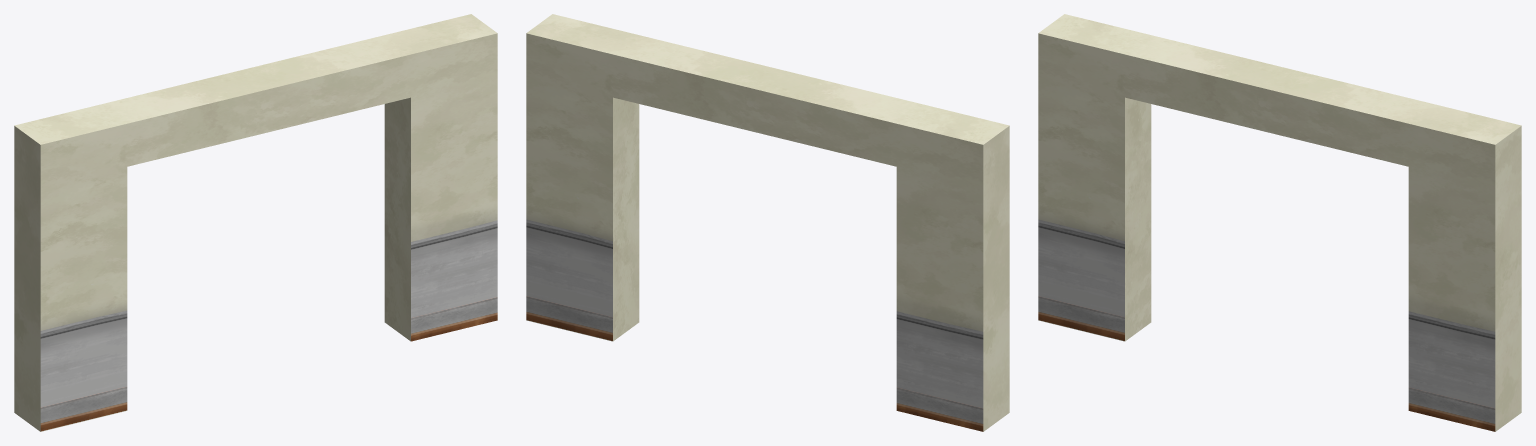
The model's file is WallDD.fbx.
3 views of the same model, side by side, from view 1: azimuth 30°, elevation 25°; view 2: azimuth 150°, elevation 25°; view 3: azimuth 330°, elevation 25° (orthographic).
Parts seen in each view (by area): view 1: pCube1; view 2: pCube1; view 3: pCube1.
Boxes of the visible parts, box(x1,y1,x2,y2) form: pCube1: box(14, 14, 497, 431); pCube1: box(526, 14, 1009, 431); pCube1: box(1038, 14, 1521, 431).
Size of the model in its own units: 5 by 3 by 0.5.
